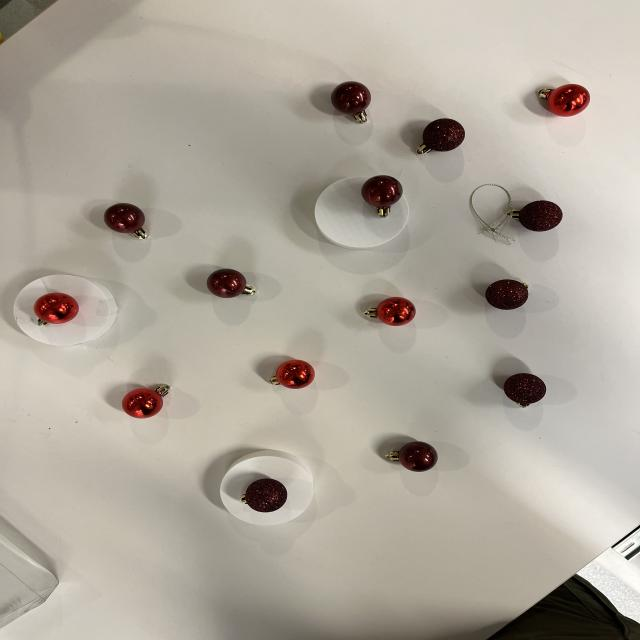glitter-bauble: (411, 116, 473, 160), (500, 200, 568, 233), (238, 475, 294, 515), (497, 371, 554, 410), (482, 274, 536, 311), (505, 200, 563, 232), (416, 118, 466, 155), (239, 478, 288, 513), (503, 373, 547, 408), (485, 279, 529, 310)
glossy-bauble: (110, 378, 183, 419), (24, 288, 85, 332), (526, 81, 596, 118), (262, 353, 326, 393), (358, 293, 424, 328), (537, 84, 590, 117), (122, 385, 171, 419), (363, 297, 416, 326), (33, 293, 79, 326), (269, 360, 315, 389)
wine-red-bauble: (375, 433, 445, 477), (325, 79, 379, 127), (358, 171, 407, 222), (100, 200, 155, 242), (201, 265, 261, 300), (361, 175, 403, 218), (331, 81, 371, 124), (385, 441, 438, 473), (103, 203, 148, 240), (206, 269, 257, 298)
